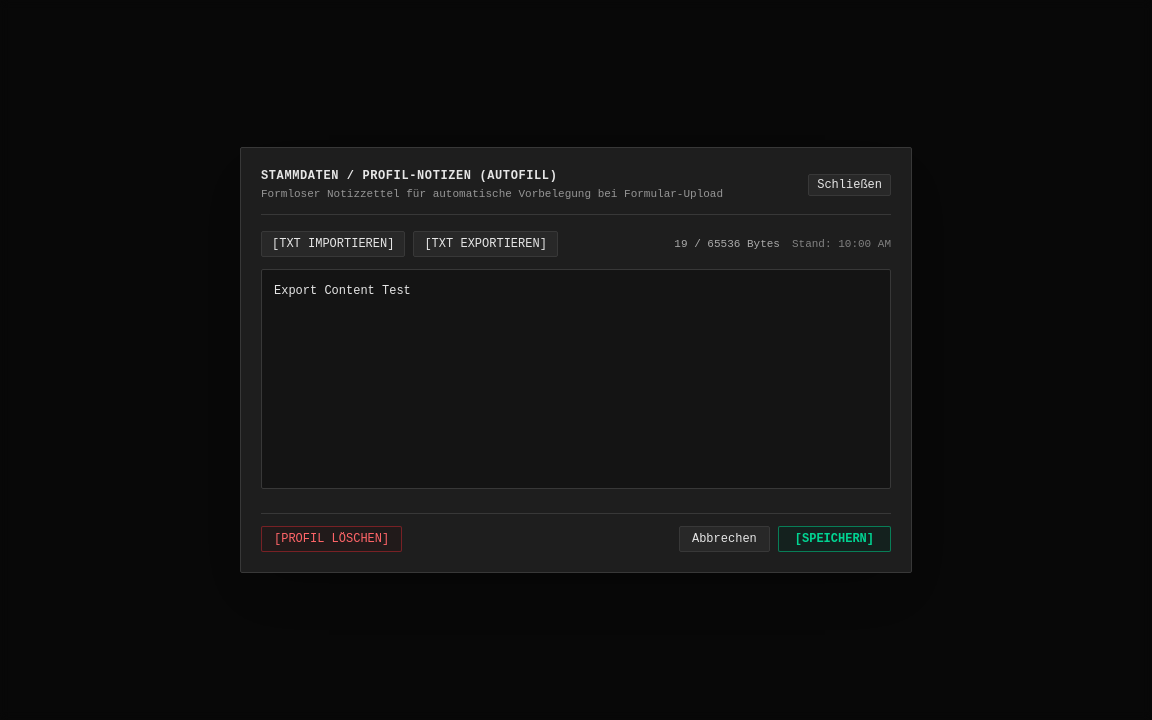
Test case: UserProfileModal › exports profile as text blob
Expected: the text box named "stammdaten notizzettel" holds "Export Content Test", 261,269 -> 891,489
Click the button "[TXT EXPORTIEREN]" at {"x": 486, "y": 244}, box 413,231 -> 558,257
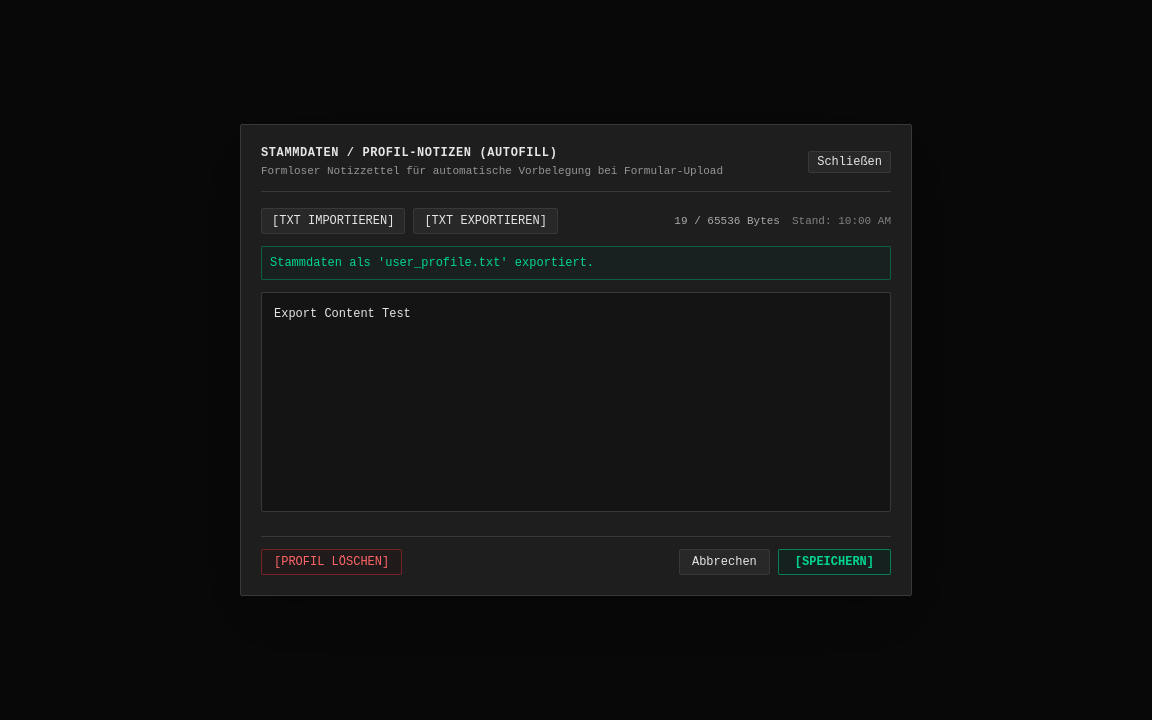
Expected: the text "Stammdaten als 'user_profile.txt' exportiert." is shown, 261,246 -> 891,280
